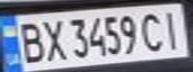3: (63, 15, 87, 60)
4: (84, 14, 109, 58)
5: (103, 12, 124, 56)
9: (118, 11, 142, 55)
B: (12, 18, 48, 64)
C: (139, 9, 169, 53)
I: (157, 7, 187, 52)
X: (36, 16, 66, 63)
